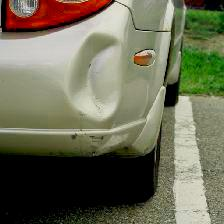bumper_dent: (67, 27, 140, 156)
